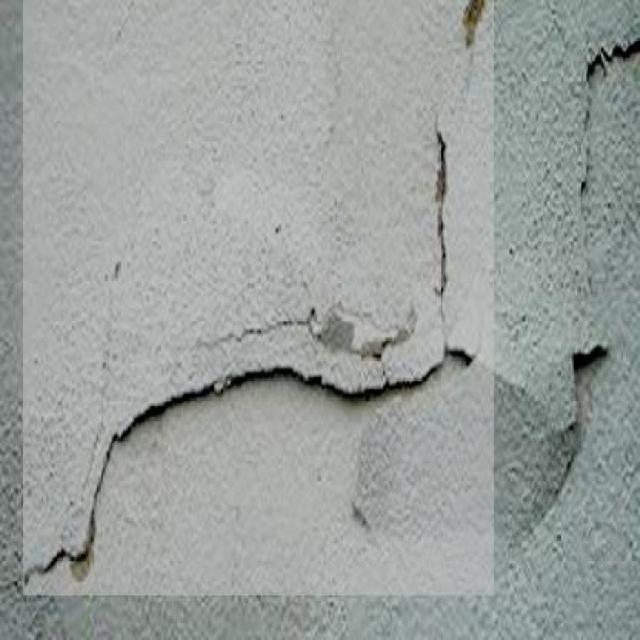Crack: (25, 109, 492, 588), (546, 326, 619, 555), (573, 29, 640, 196)
